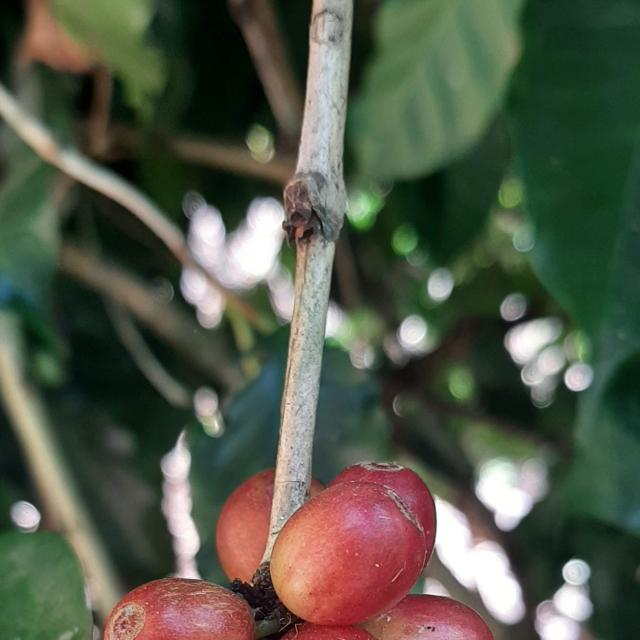green: (281, 623, 376, 640)
red: (270, 482, 428, 626), (329, 462, 437, 566), (103, 579, 255, 640), (215, 470, 275, 584), (361, 596, 495, 640)
